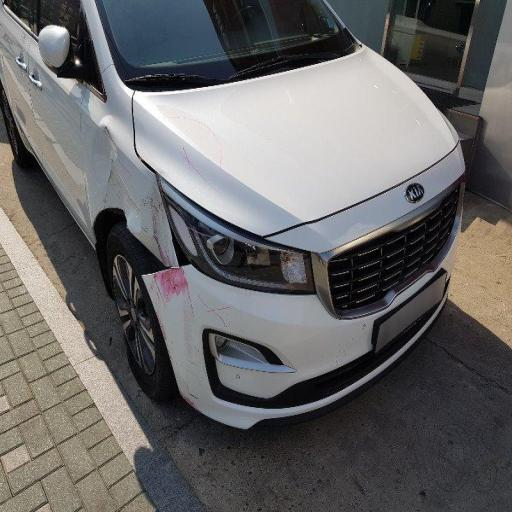broken: (84, 103, 246, 354)
scratch: (121, 154, 184, 262), (154, 270, 206, 310)
